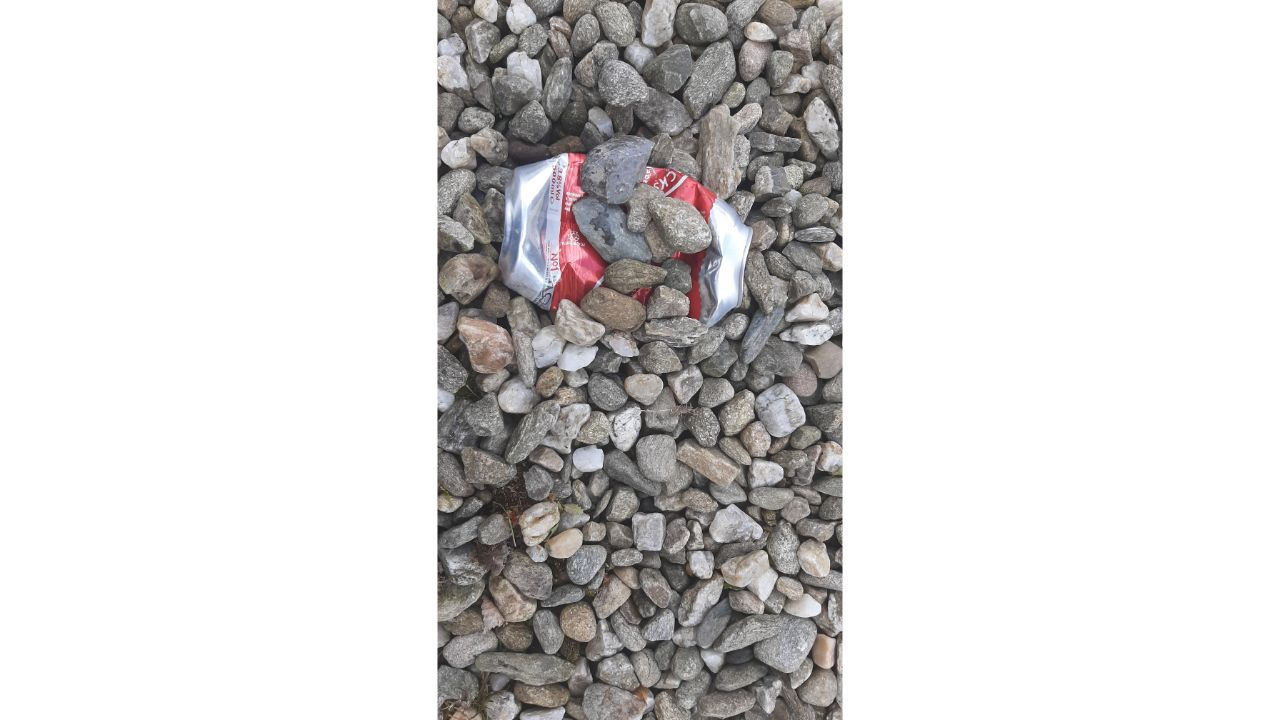Can: (484, 126, 765, 360)
